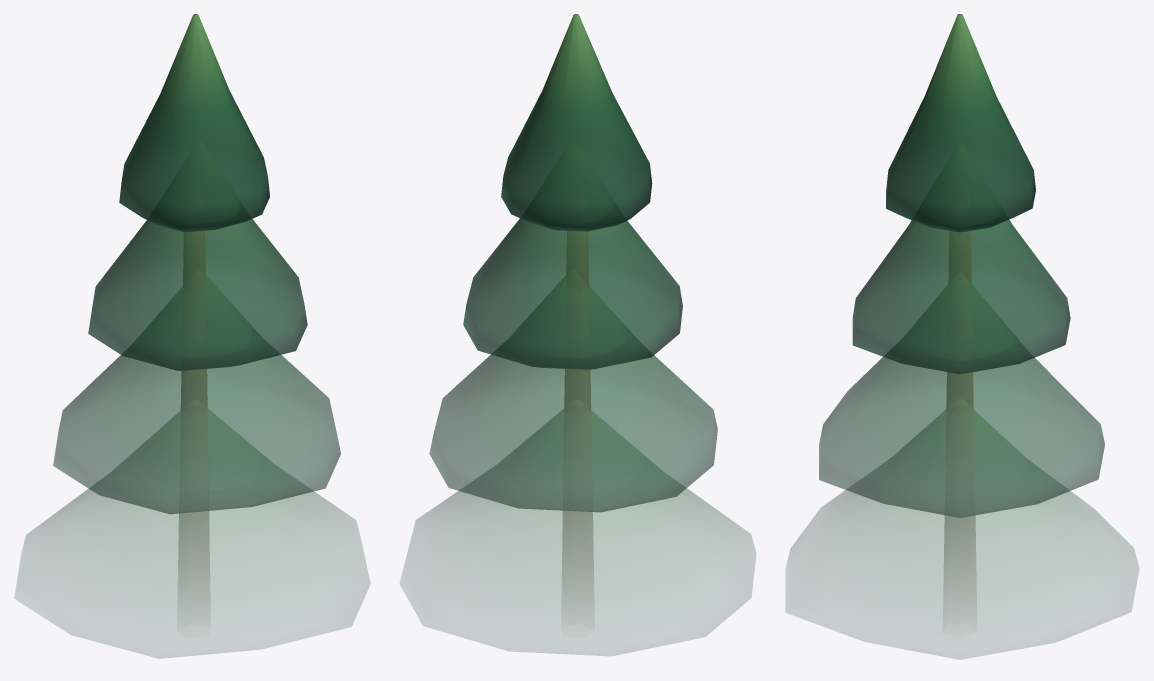
File: tree_pine_0.glb
3 views of the same model, side by side, from view 1: azimuth 30°, elevation 25°; view 2: azimuth 150°, elevation 25°; view 3: azimuth 270°, elevation 25° (orthographic).
Parts seen in each view (by area): view 1: tree_pine_0; view 2: tree_pine_0; view 3: tree_pine_0.
Part boxes in pixels (x1=…): tree_pine_0: x1=15, y1=14, x2=369, y2=658; tree_pine_0: x1=400, y1=14, x2=755, y2=655; tree_pine_0: x1=786, y1=14, x2=1138, y2=659.
Size of the model in its own units: 5.23 by 10 by 5.01.
